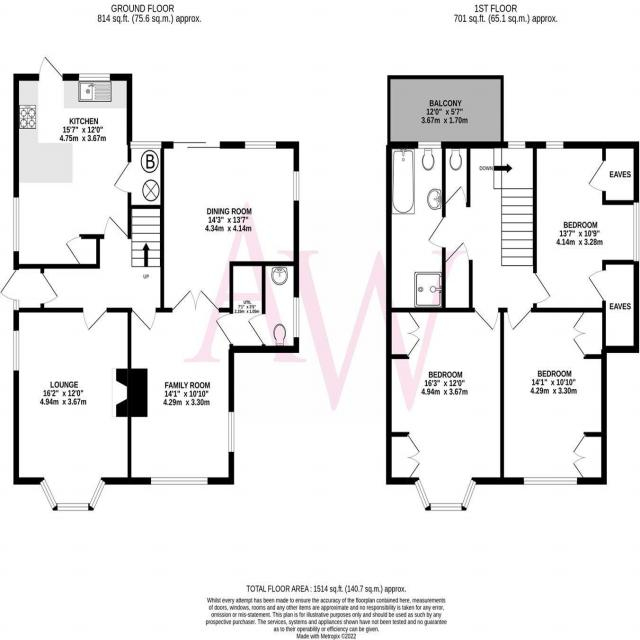DOOR: (587, 158, 607, 193), (214, 312, 234, 346), (82, 307, 108, 333), (38, 55, 63, 82), (587, 269, 607, 302), (103, 215, 129, 240), (131, 307, 157, 332), (473, 307, 499, 332), (506, 307, 532, 332), (0, 269, 20, 301), (113, 161, 132, 194), (40, 272, 59, 305), (427, 216, 446, 249), (532, 273, 552, 304), (247, 313, 266, 345), (445, 241, 470, 265), (441, 185, 467, 208)
ROOM: (13, 307, 148, 511), (13, 55, 133, 269), (385, 307, 504, 512), (160, 141, 300, 313), (115, 289, 235, 486), (500, 307, 607, 485), (532, 141, 640, 313)
WINDOW: (39, 478, 58, 510), (88, 478, 106, 511), (414, 478, 431, 511), (523, 476, 578, 486), (461, 478, 477, 510), (632, 202, 640, 263), (151, 477, 208, 485), (13, 197, 20, 252), (129, 139, 163, 150), (244, 140, 277, 150), (78, 73, 111, 82), (228, 411, 235, 453), (430, 502, 462, 511), (13, 330, 20, 371), (293, 297, 300, 338), (57, 503, 89, 511), (418, 140, 442, 150), (293, 170, 300, 202), (508, 140, 526, 149), (546, 141, 564, 150), (12, 299, 19, 311)
